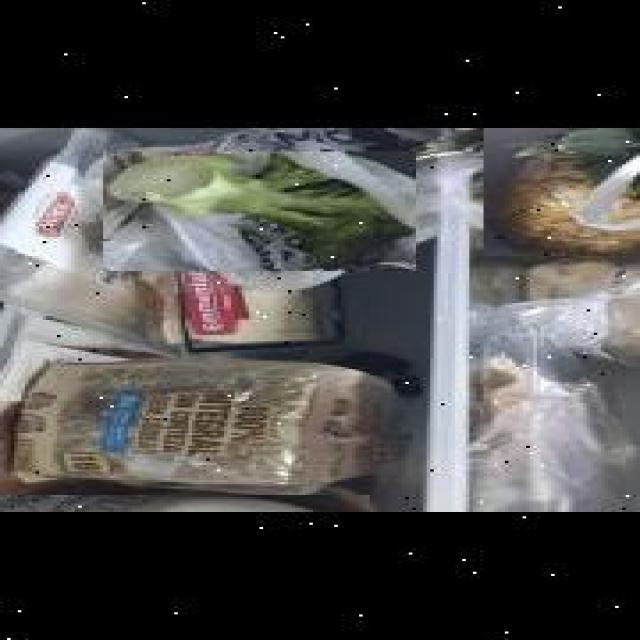bread: (0, 354, 402, 491)
broccoli: (100, 153, 412, 272)
cheese: (146, 285, 341, 353)
milk: (0, 495, 363, 512)
pineapple: (480, 128, 640, 256)
